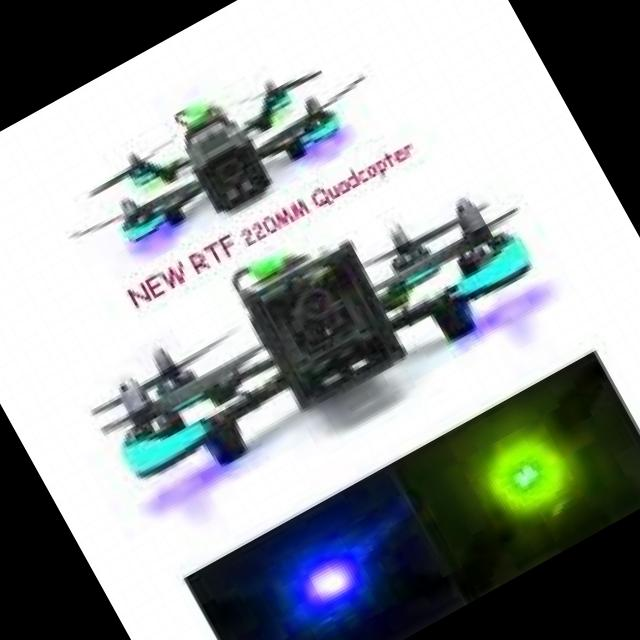drone: (58, 123, 606, 544), (36, 6, 418, 306)
